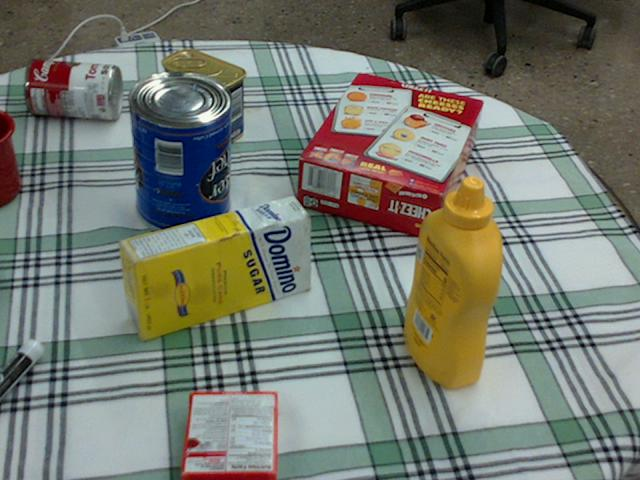cracker_box: (297, 73, 482, 239)
gelatin_box: (180, 392, 275, 479)
large_marker: (0, 339, 43, 399)
master_chef_can: (125, 71, 229, 236)
mug: (0, 108, 20, 203)
mustard_bottle: (404, 175, 502, 386)
potted_meat_can: (161, 50, 245, 143)
sugar_box: (118, 196, 310, 340)
tomato_soup_can: (24, 58, 121, 118)
